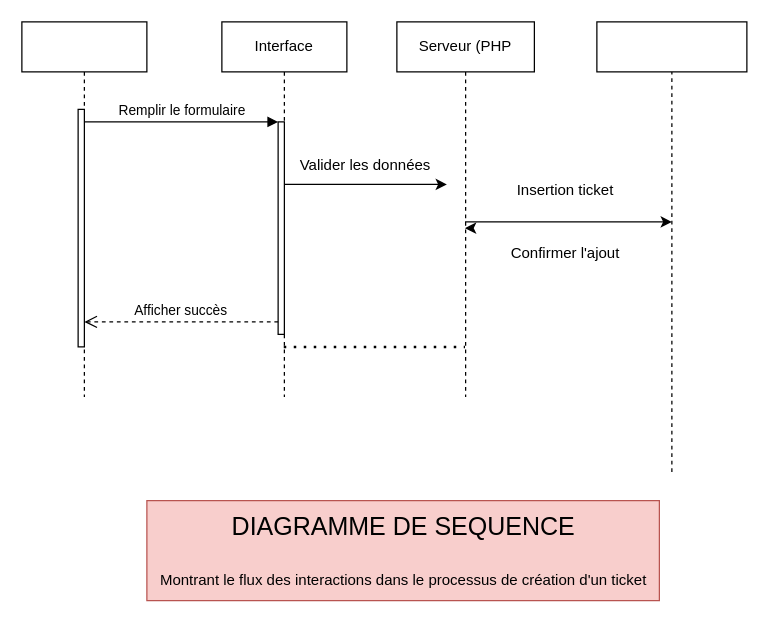
Image size: 769x623. Some labels were removed from this diagram. Each missing label, with the centre of its shape:
Base de données: [671,46]
Utilisateur: [84,209]
